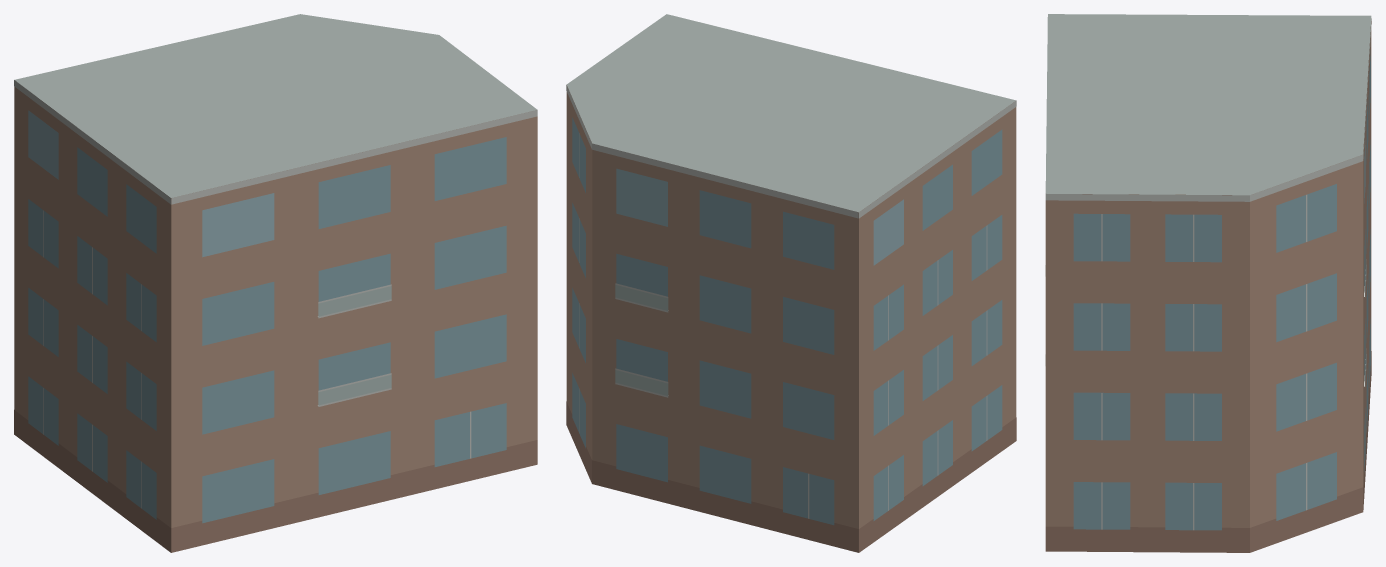
File: survey-upis-32998122.glb
The picture shows the model from 3 angles, left to right: view 1: azimuth 30°, elevation 25°; view 2: azimuth 150°, elevation 25°; view 3: azimuth 270°, elevation 25°; orthographic projection. The views are drawn at different scales.
Visible parts, largest first — view 1: survey-upis-32998122.tmp; view 2: survey-upis-32998122.tmp; view 3: survey-upis-32998122.tmp.
Boxes of the visible parts, bbox=[...] form: survey-upis-32998122.tmp: bbox=[14, 14, 537, 552]; survey-upis-32998122.tmp: bbox=[566, 14, 1016, 552]; survey-upis-32998122.tmp: bbox=[1045, 14, 1371, 552].
Bounding box in the file's own units: 14.36 × 13.2 × 10.91.
